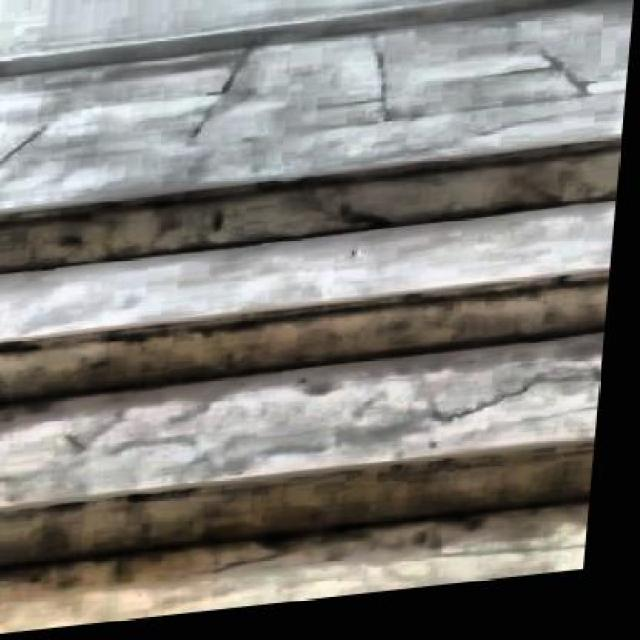stair: (0, 147, 623, 638)
